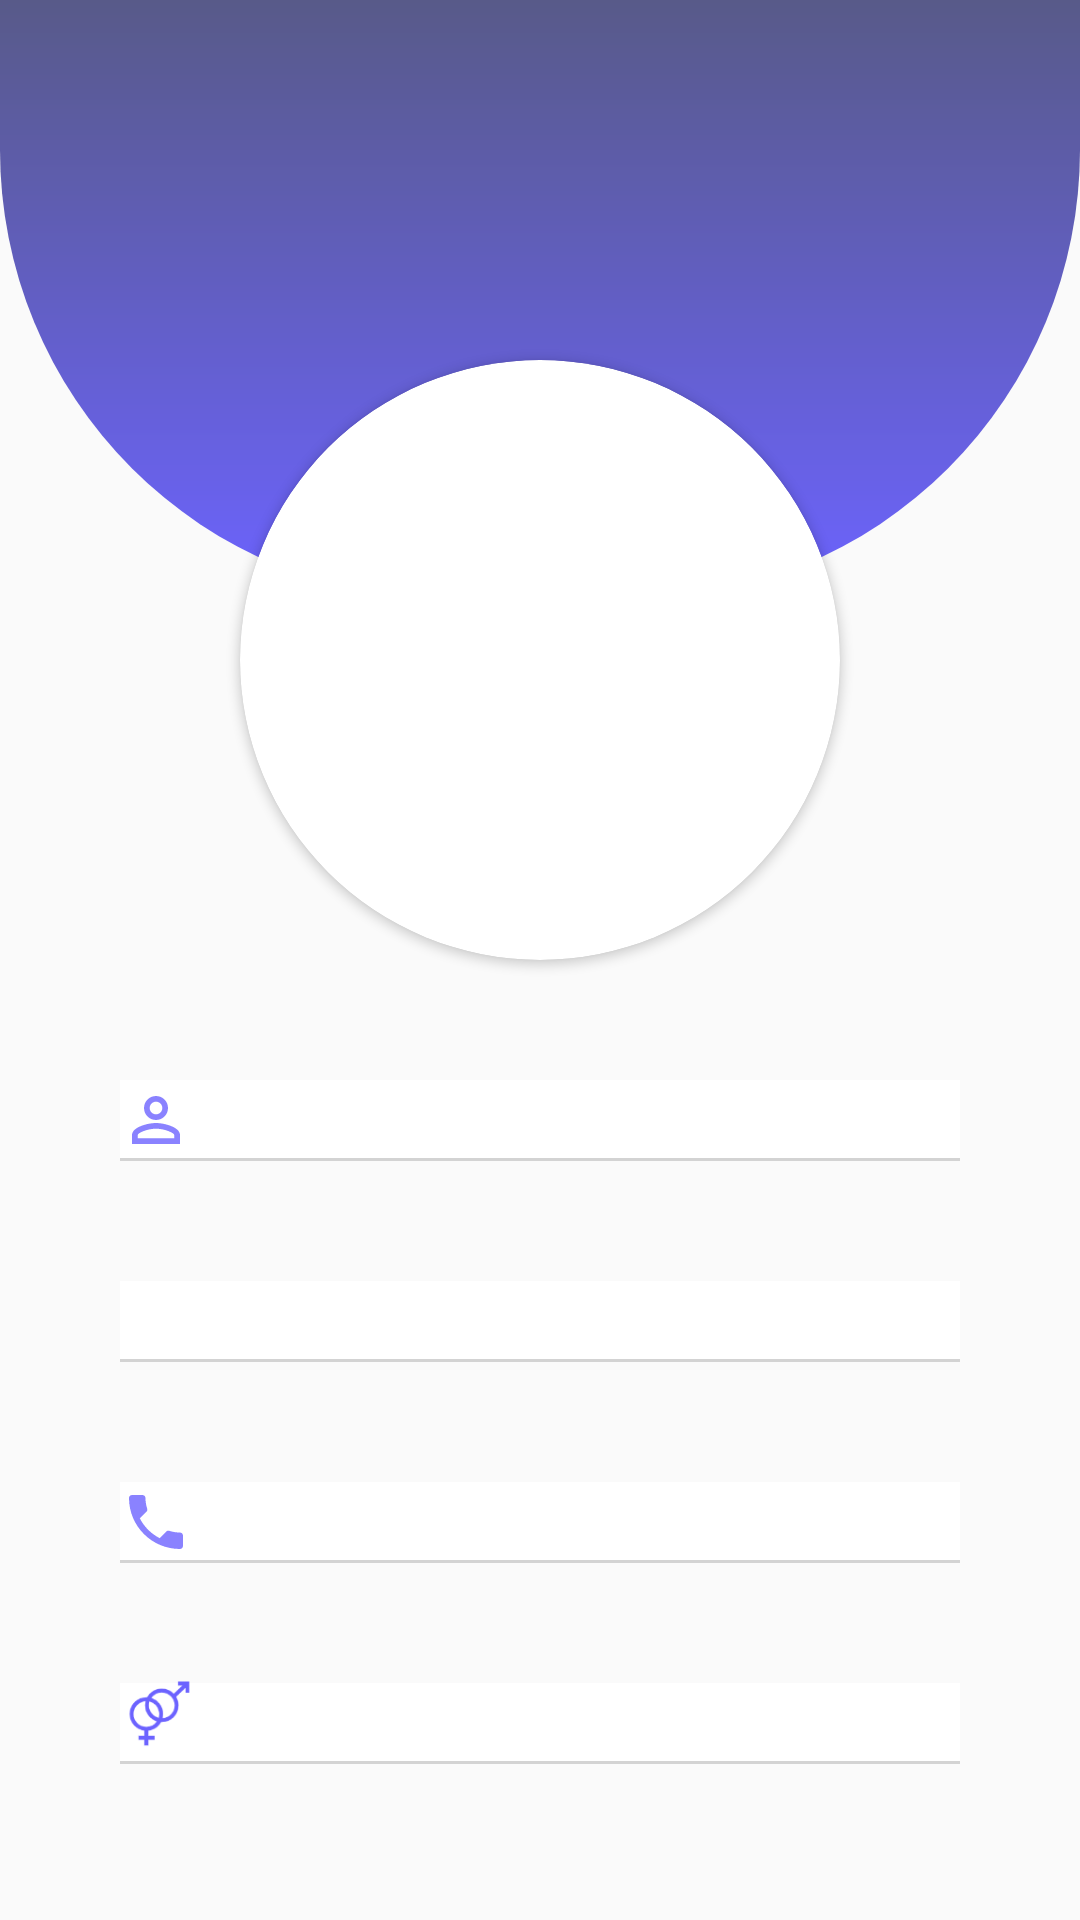

Icon bounding boxes for this 1080x1920 phone screenshot, format (x1, y1, x2, y2):
gender: (129, 1681, 190, 1746)
